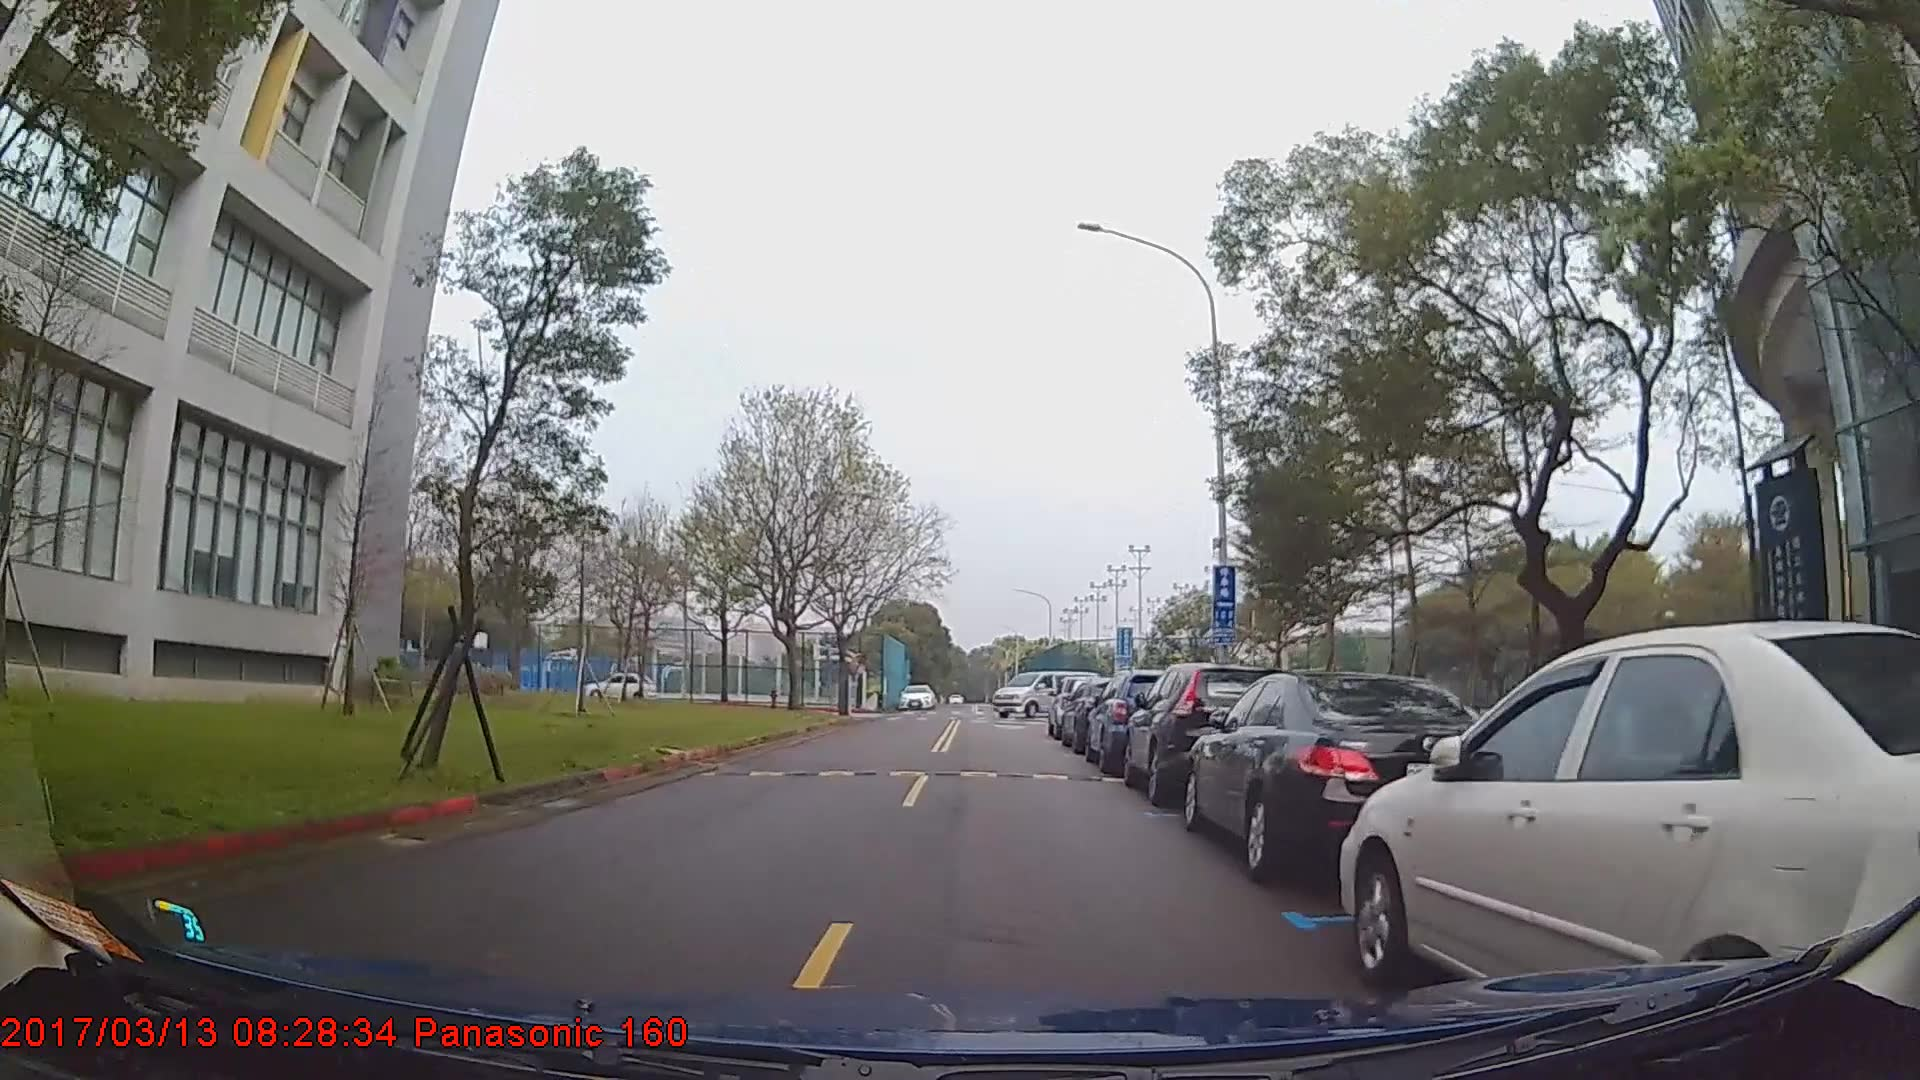vehicle: (1338, 616, 1920, 1029), (1185, 670, 1513, 884), (1120, 662, 1292, 804), (1085, 669, 1185, 775), (992, 669, 1100, 719), (583, 670, 657, 700), (897, 682, 936, 708)
